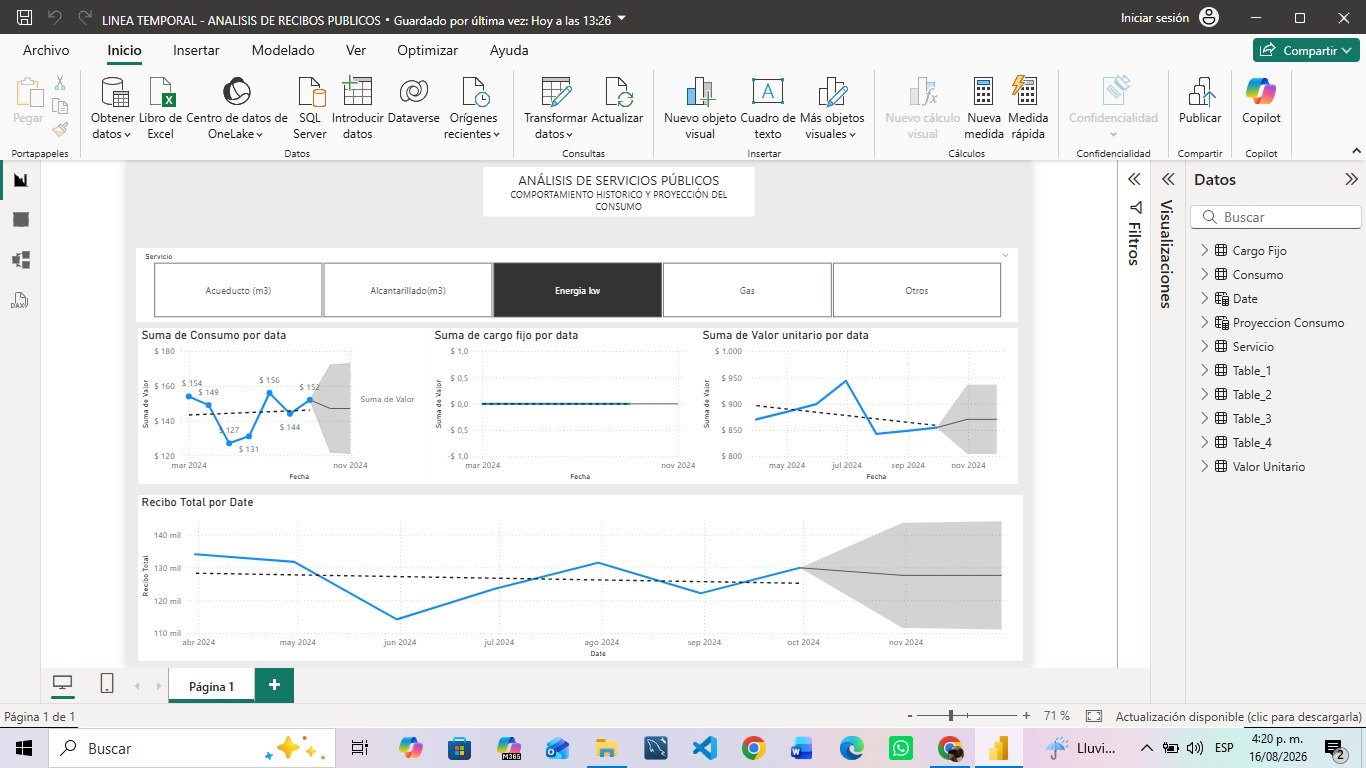

This screenshot's page, from the dashboard's own definition file:
{"tool":"powerbi","page":{"name":"Página 1","canvas":[1280,720],"ordinal":0},"visuals":[{"type":"slicer","fields":{"Values":["Servicio.Servicio"]},"box":[13,125,1250,105],"z":0},{"type":"lineChart","title":"Suma de Consumo por data","fields":{"Y":["Sum(Consumo.Valor)"],"Category":["Consumo.Fecha"]},"box":[16,238,415,221],"z":1},{"type":"lineChart","title":"Suma de cargo fijo por data","fields":{"Y":["Sum(Cargo Fijo.Valor)"],"Category":["Cargo Fijo.Fecha"]},"box":[431,238,380,221],"z":2},{"type":"lineChart","title":"Suma de Valor unitario por data","fields":{"Y":["Sum(Valor Unitario.Valor)"],"Category":["Valor Unitario.Fecha"]},"box":[811,238,452,221],"z":3},{"type":"lineChart","fields":{"Y":["Proyeccion Consumo.Recibo Total"],"Category":["Date.Date"]},"box":[16,475,1254,235],"z":4},{"type":"textbox","box":[505,10,385,70],"z":5}]}

Visuals, with their boxes on the page's 1280x720 design canvas (x1, y1, x2, y2). These are canvas units, not pixel positions in the 1366x768 screenshot, which may show the page scaled, cropped or inside an application window:
slicer - Servicio.Servicio: (left=13, top=125, right=1263, bottom=230)
"Suma de Consumo por data" lineChart: (left=16, top=238, right=431, bottom=459)
"Suma de cargo fijo por data" lineChart: (left=431, top=238, right=811, bottom=459)
"Suma de Valor unitario por data" lineChart: (left=811, top=238, right=1263, bottom=459)
lineChart - Proyeccion Consumo.Recibo Total x Date.Date: (left=16, top=475, right=1270, bottom=710)
textbox: (left=505, top=10, right=890, bottom=80)
